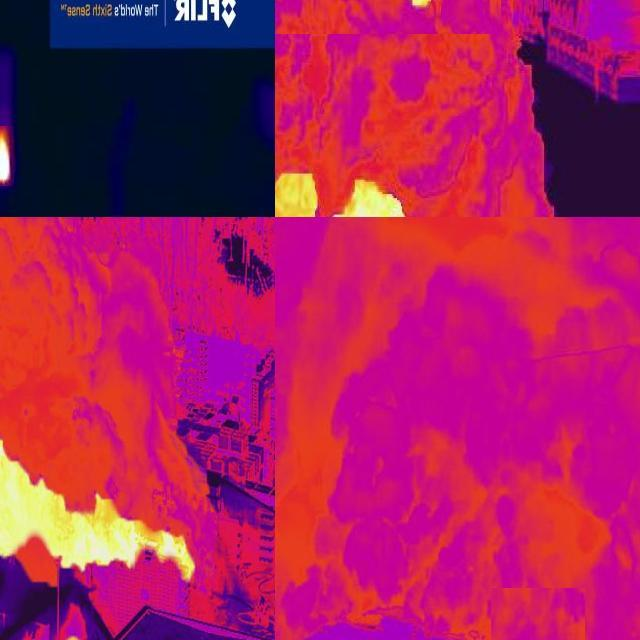fire: (1, 443, 195, 591), (274, 174, 408, 219), (1, 118, 17, 185)
